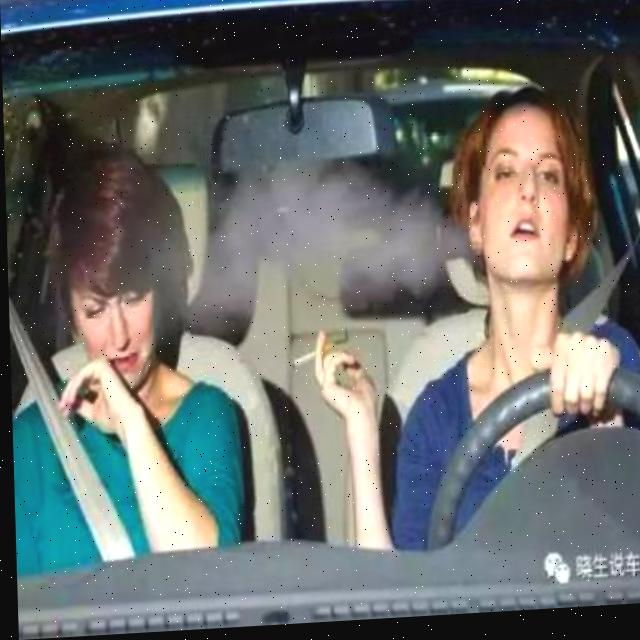cigarette: (286, 347, 331, 376)
